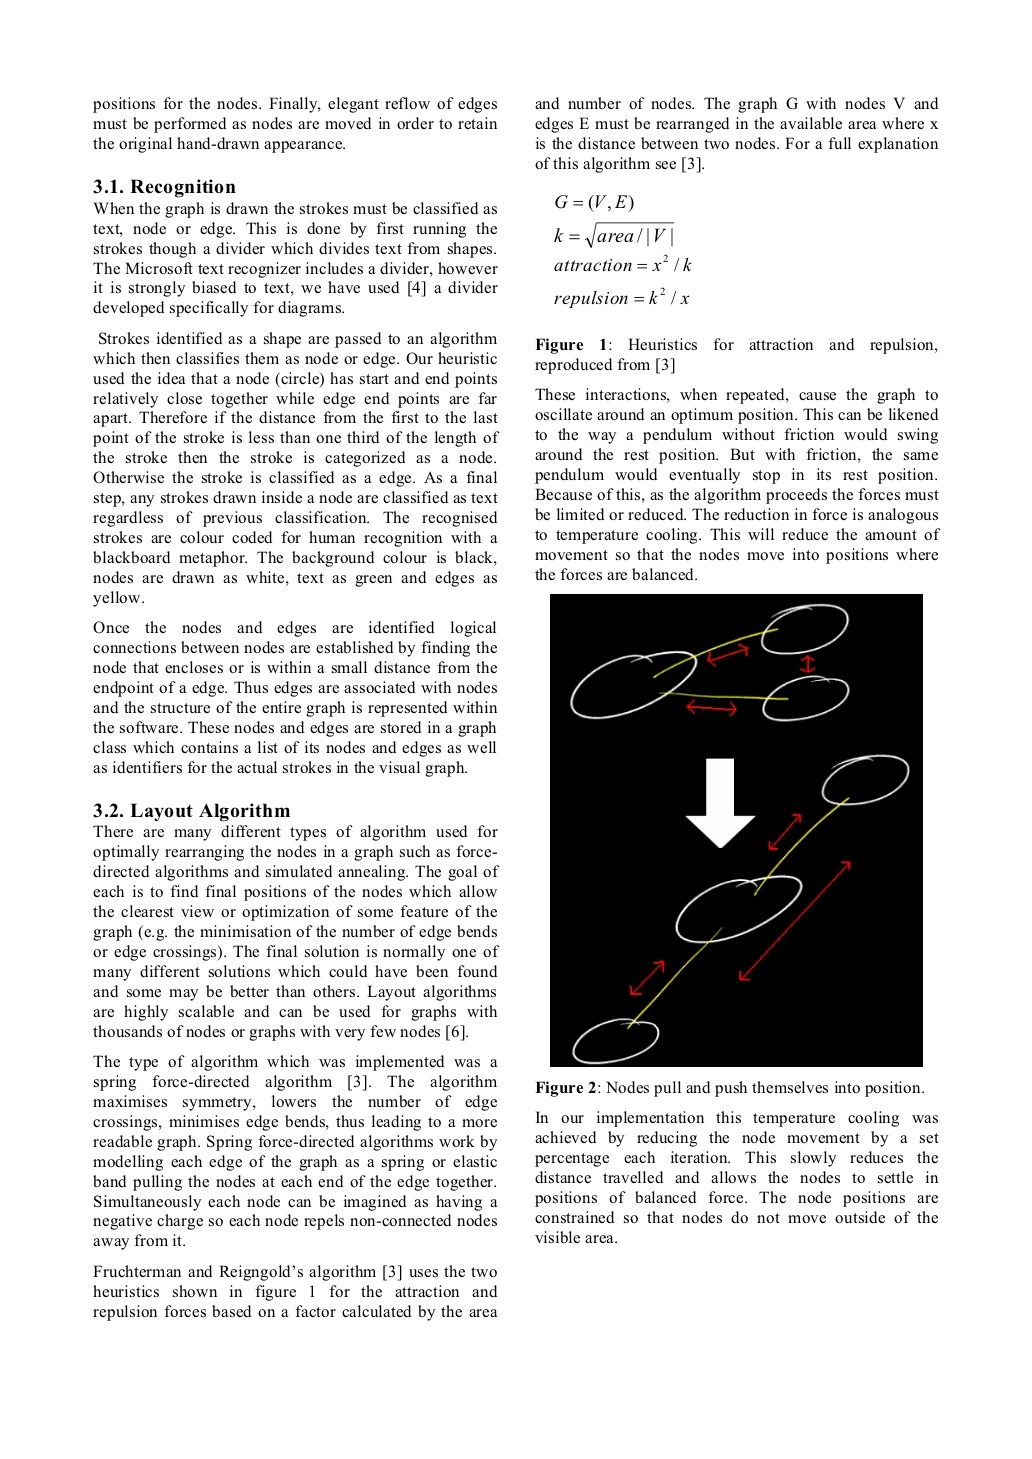figure: (550, 592, 923, 1067)
formula: (554, 221, 673, 248), (554, 286, 689, 309), (554, 253, 691, 272), (555, 194, 633, 212)
